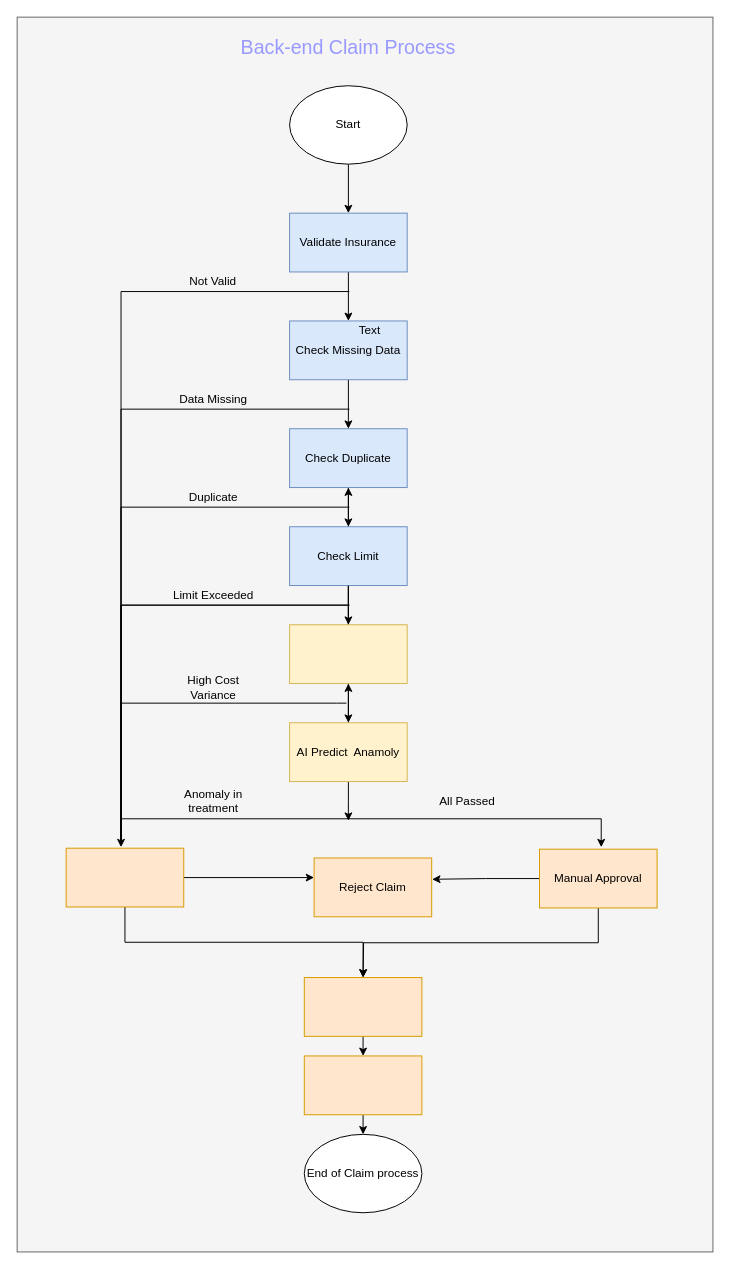
Image size: 730x1269. Some labels were removed from this diagram. Here are the shapes that lost their labels. From the top down, the centre of each, then its label:
At point 348,654: "AI Predict Cost".
At point 124,877: "Manual Verification".
At point 362,1006: "Approved Claim".
At point 362,1085: "Payment Processing".
